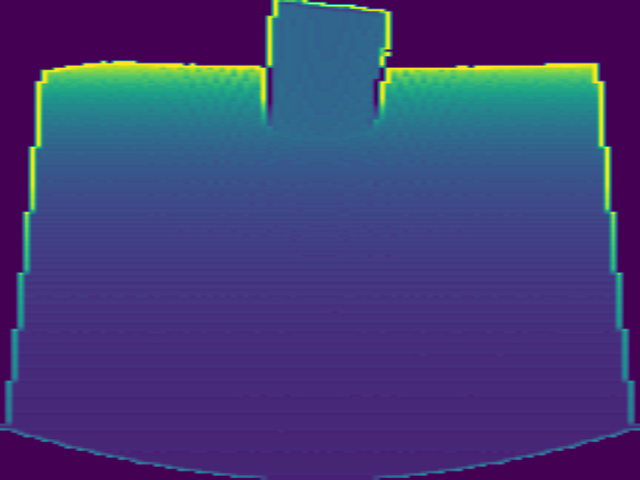cylinder: (263, 2, 392, 138)
